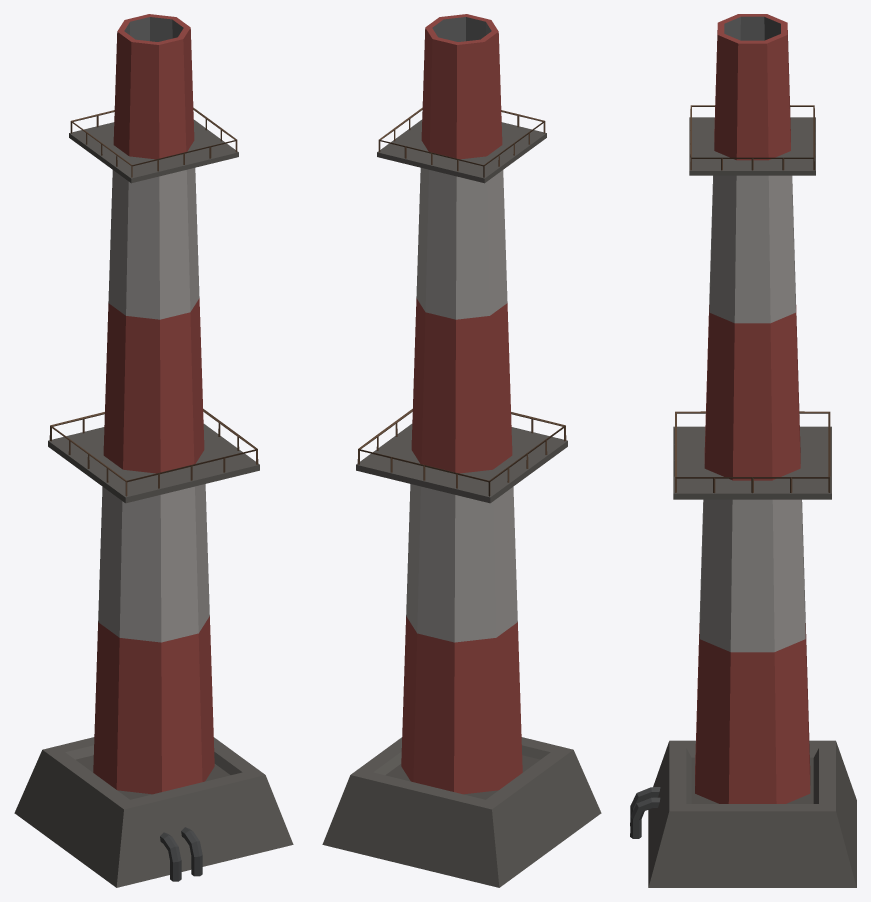
The model's file is SM_Props_Industrial_Chimney_01.fbx.
3 renders of one model, left to right at view 1: azimuth 30°, elevation 25°; view 2: azimuth 150°, elevation 25°; view 3: azimuth 270°, elevation 25°, orthographic.
Visible parts, largest first — view 1: SM_Props_Industrial_Chimney_01; view 2: SM_Props_Industrial_Chimney_01; view 3: SM_Props_Industrial_Chimney_01.
Boxes of the visible parts, x1,y1,x2,y2 form: SM_Props_Industrial_Chimney_01: (14, 14, 293, 887); SM_Props_Industrial_Chimney_01: (322, 14, 601, 887); SM_Props_Industrial_Chimney_01: (630, 14, 856, 887).
Bounding box in the file's own units: 600 × 2590 × 653.
